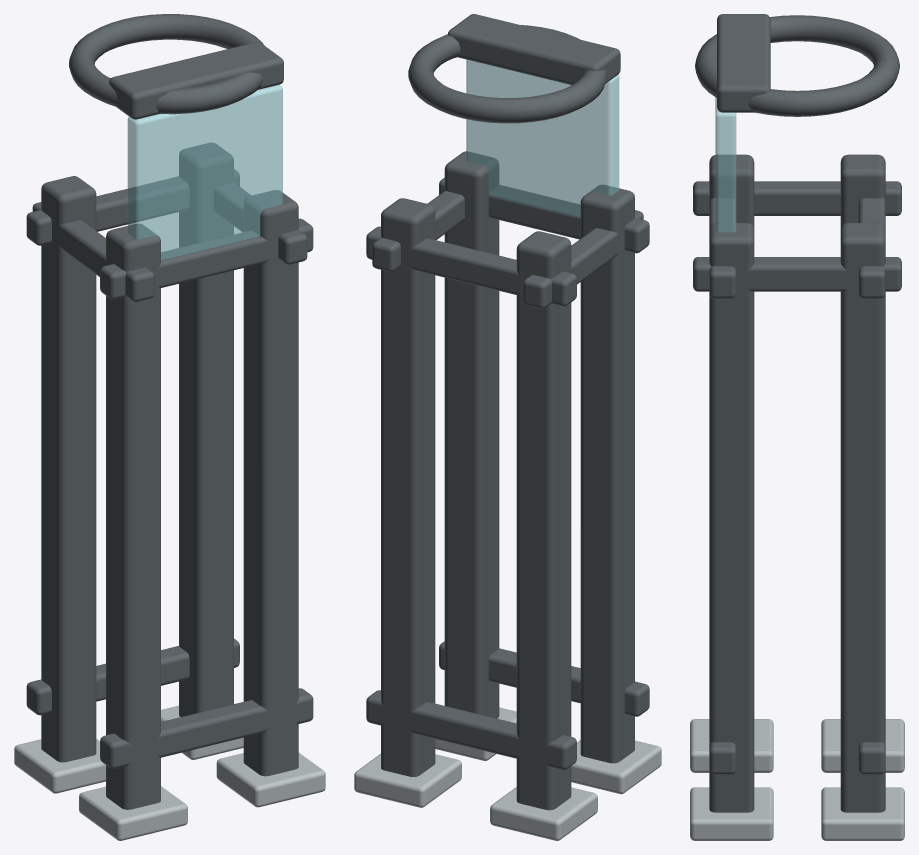
File: glassblowing-studio-and-gallery-face-shield-stand-0a462a28__29615.glb
The picture shows the model from 3 angles, left to right: view 1: azimuth 30°, elevation 25°; view 2: azimuth 150°, elevation 25°; view 3: azimuth 270°, elevation 25°; orthographic projection. The views are drawn at different scales.
Visible parts, largest first — view 1: face-shield-stand; view 2: face-shield-stand; view 3: face-shield-stand.
Part boxes in pixels (box(x1,y1,x2,y2)): face-shield-stand: box(14, 14, 325, 840); face-shield-stand: box(354, 14, 661, 840); face-shield-stand: box(690, 14, 904, 840).
Size of the model in its own units: 0.41 by 1.37 by 0.36.
